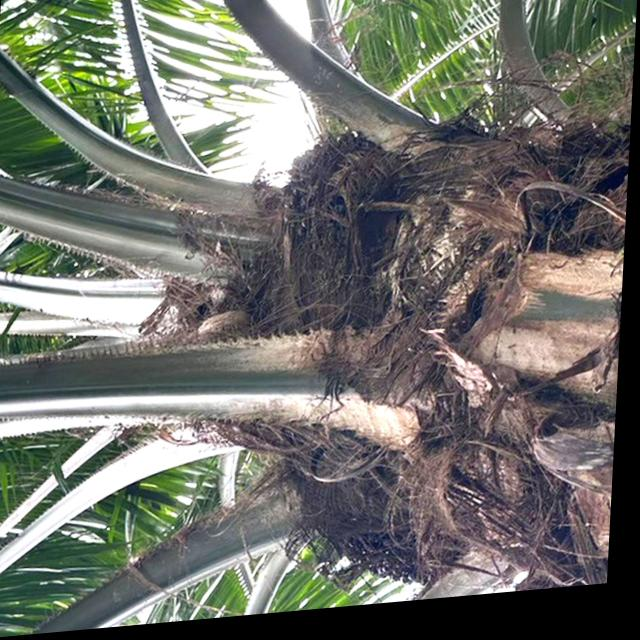unripe: (311, 471, 482, 615), (270, 130, 409, 284)
